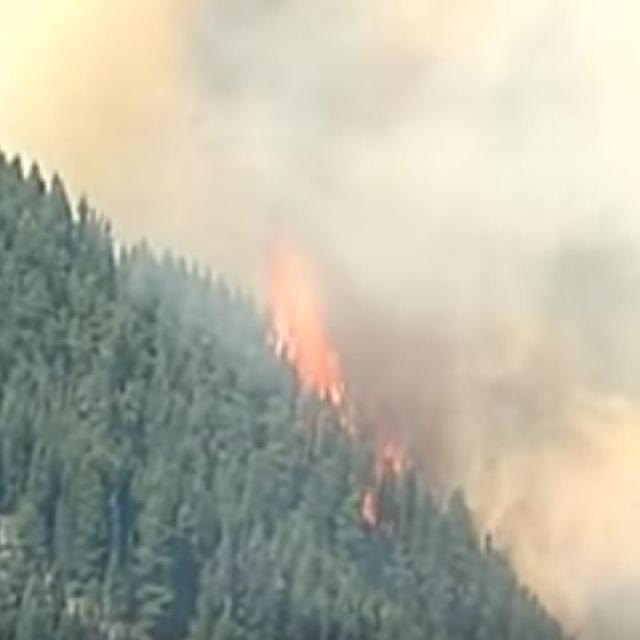Fire: (266, 249, 360, 400), (363, 424, 413, 548)
Smoke: (295, 23, 640, 594), (9, 0, 274, 289)
